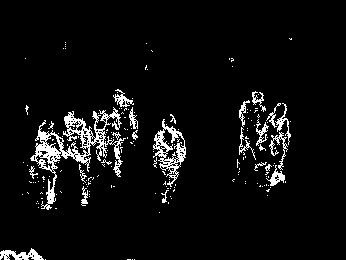person: (232, 89, 266, 185), (61, 111, 94, 207), (256, 101, 291, 190), (29, 119, 62, 211), (153, 112, 184, 205), (111, 86, 139, 177), (93, 105, 111, 166)
